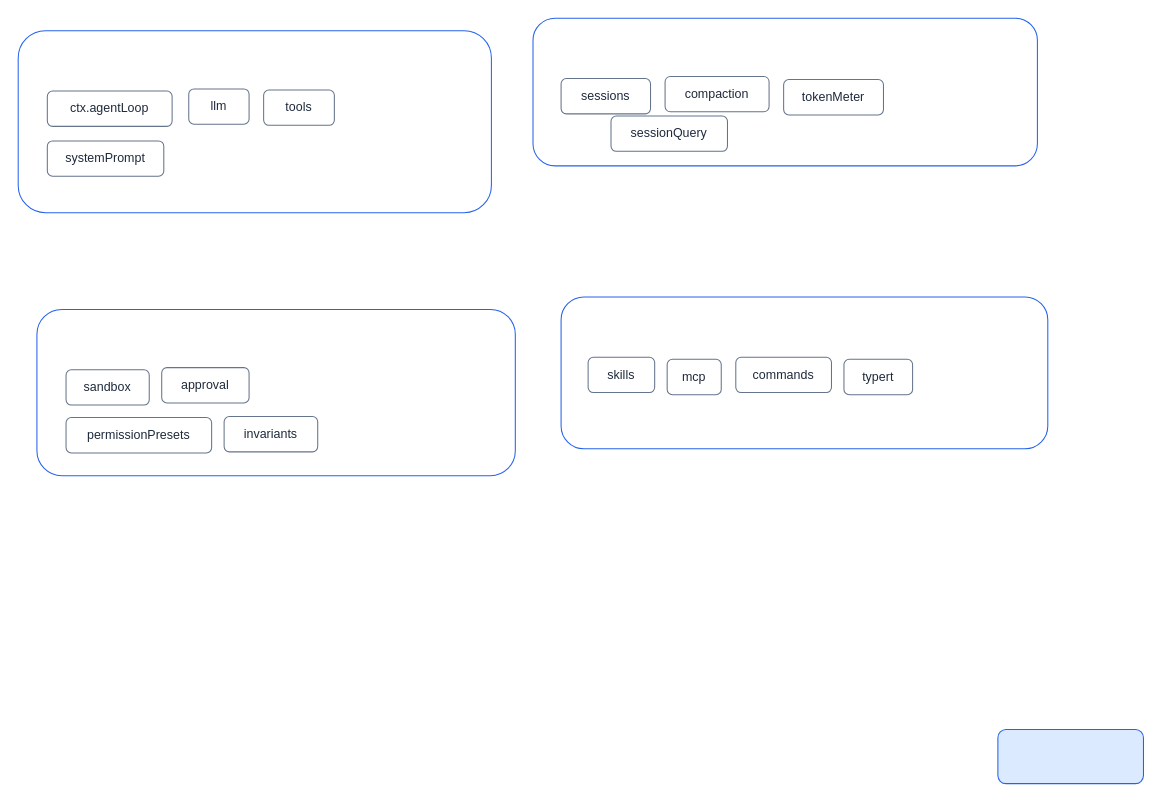
Some shapes in this 1162 by 802 pixel diagram are drawn without their labels. Here are the shapes that lost their labels. From the top down, the box of each, then its label:
(532, 17, 1037, 166): 会话与记忆
(17, 30, 491, 213): 运行主链
(36, 308, 515, 476): 安全边界
(560, 296, 1048, 449): 扩展通道
(997, 729, 1143, 784): ctx.* 服务共 56 条
